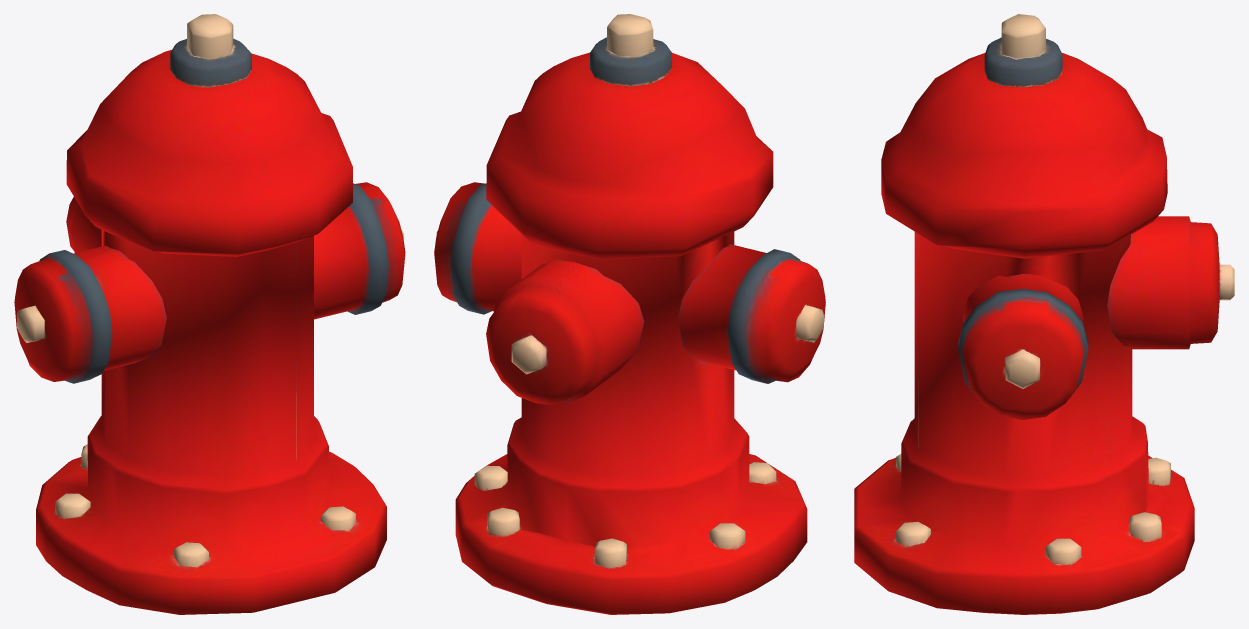
File: PROP_HYDRANT_A01.glb
3 renders of one model, left to right at view 1: azimuth 30°, elevation 25°; view 2: azimuth 150°, elevation 25°; view 3: azimuth 270°, elevation 25°, orthographic.
Visible parts, largest first — view 1: tripo_node_0ac7a9e0-b094-46cc-8cfe-cbd408324bc4; view 2: tripo_node_0ac7a9e0-b094-46cc-8cfe-cbd408324bc4; view 3: tripo_node_0ac7a9e0-b094-46cc-8cfe-cbd408324bc4.
Part boxes in pixels (x1=…): tripo_node_0ac7a9e0-b094-46cc-8cfe-cbd408324bc4: x1=14, y1=14, x2=405, y2=614; tripo_node_0ac7a9e0-b094-46cc-8cfe-cbd408324bc4: x1=434, y1=14, x2=825, y2=614; tripo_node_0ac7a9e0-b094-46cc-8cfe-cbd408324bc4: x1=854, y1=14, x2=1234, y2=614.
Size of the model in its own units: 0.7485 by 0.9995 by 0.6577.
1 material, 1 textured.
